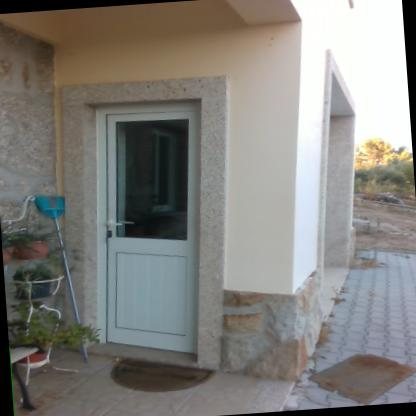closed: (64, 84, 233, 372)
